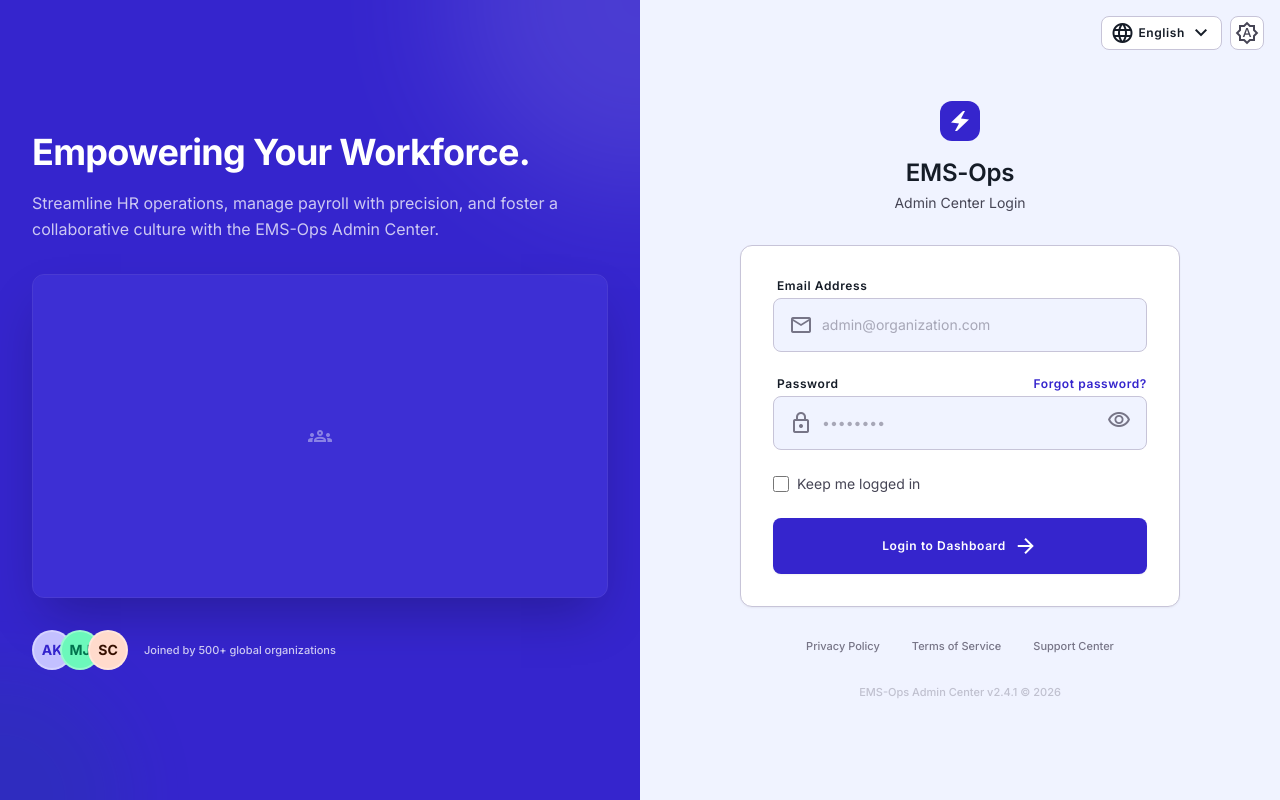
Scenario: LoginPage › shows error message on invalid credentials
Type "wrong@test.com" into the field labelled "Email Address".
click(960, 325); type("wrong@test.com")  # box 773,298 -> 1147,352
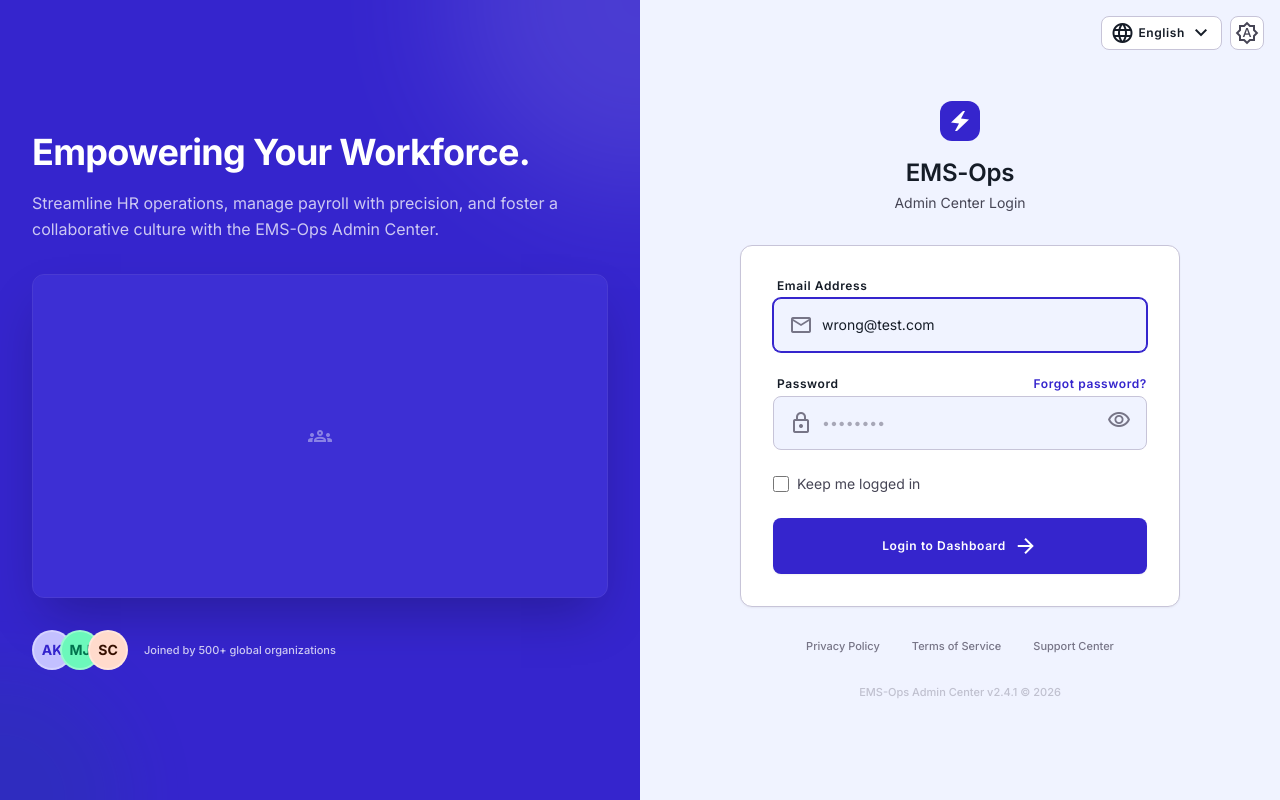
Type "wrongpass" into the password field labelled "Password".
click(960, 423); type("wrongpass")  # box 773,396 -> 1147,450
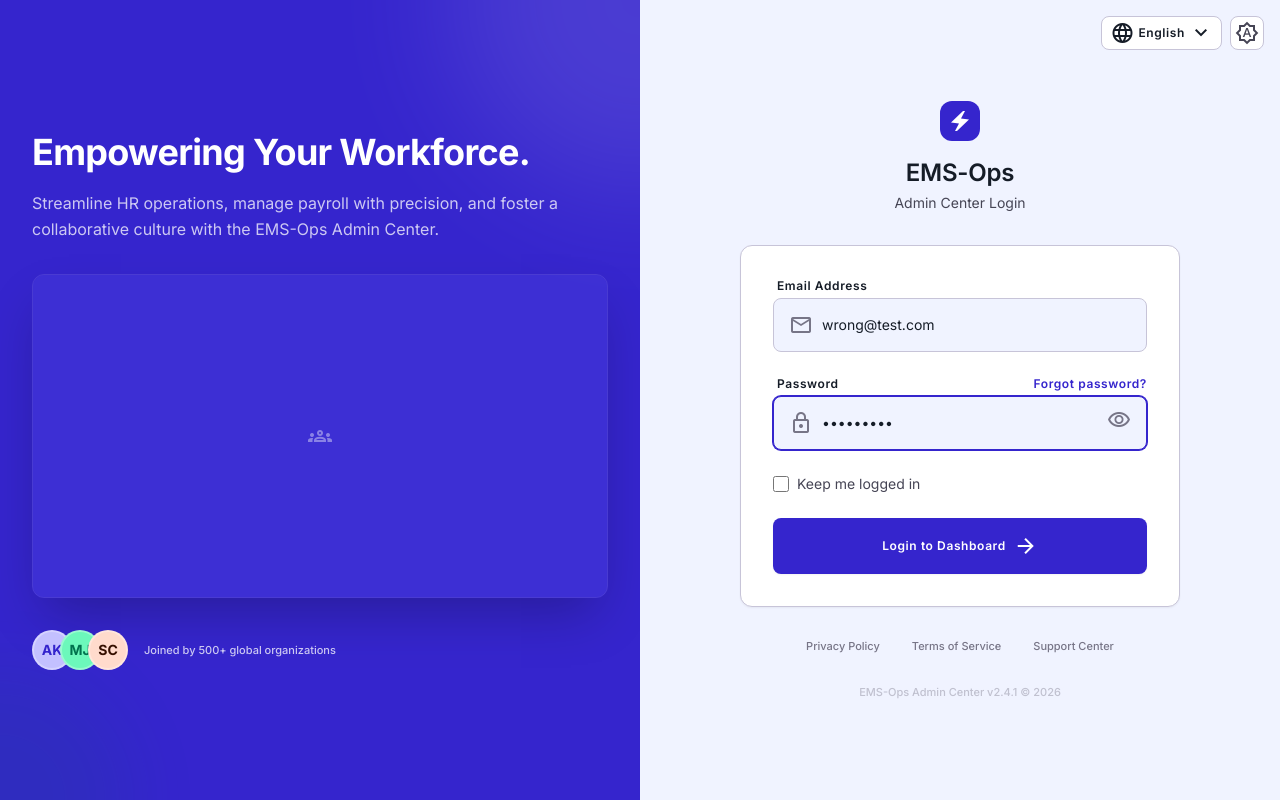
Click the button "Login to Dashboard".
click(960, 546)  # box 773,518 -> 1147,574
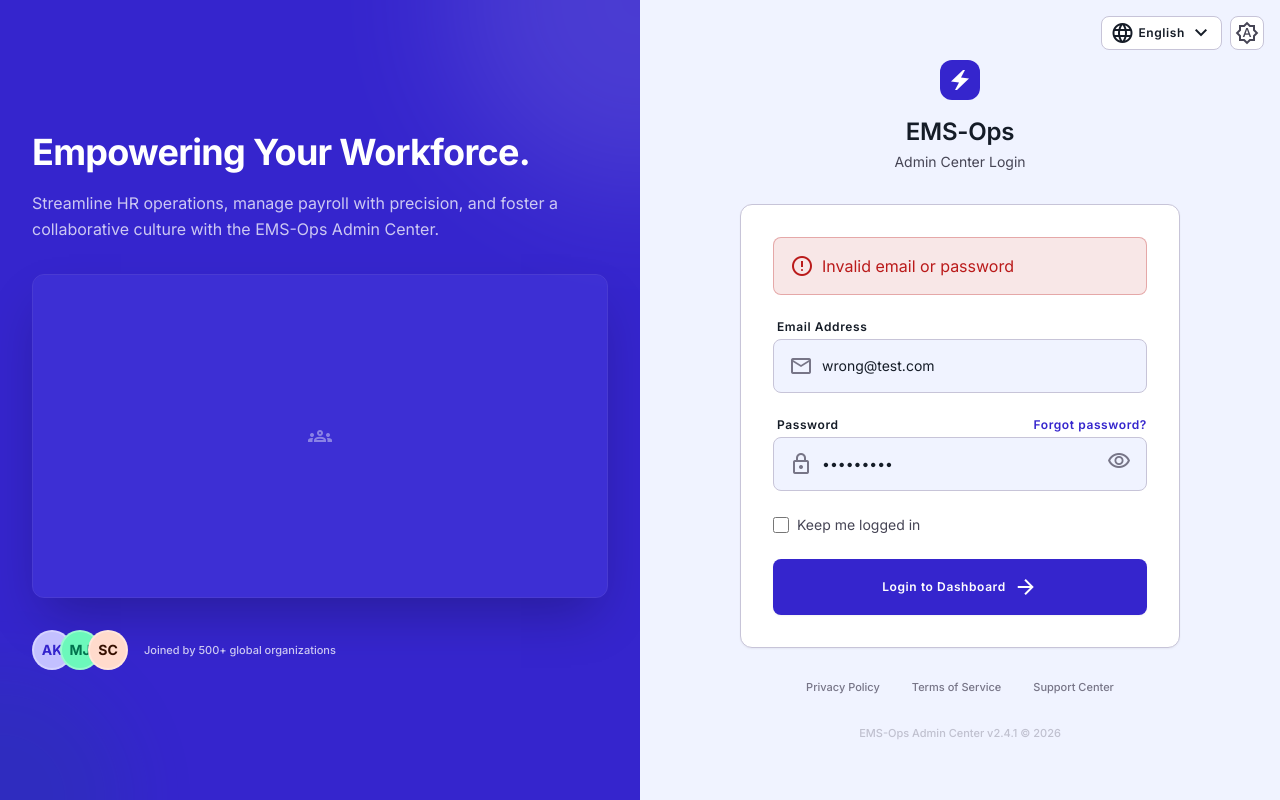
Expected: the text "Invalid email or password" is shown, 773,237 -> 1147,295
